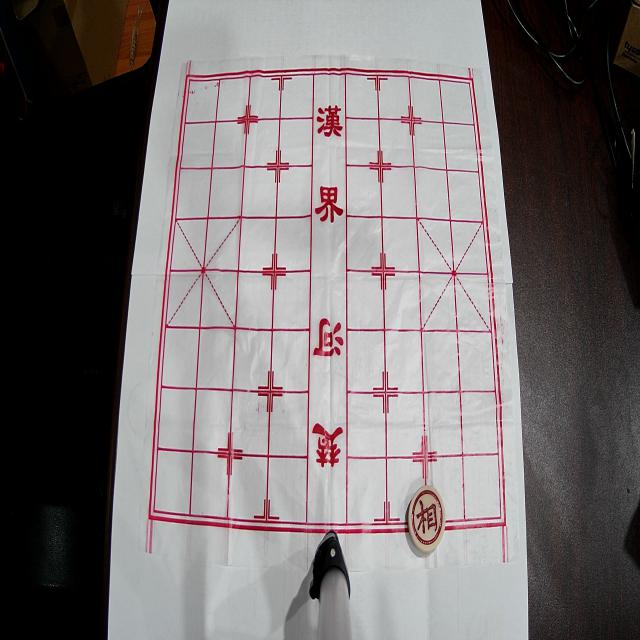red-elephant: (408, 486, 446, 554)
